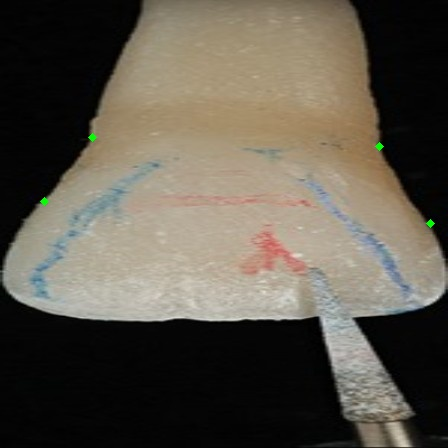coin_1: (92, 137, 112, 157)
coin_2: (44, 201, 64, 221)
coin_3: (379, 146, 399, 166)
coin_4: (430, 223, 448, 243)
